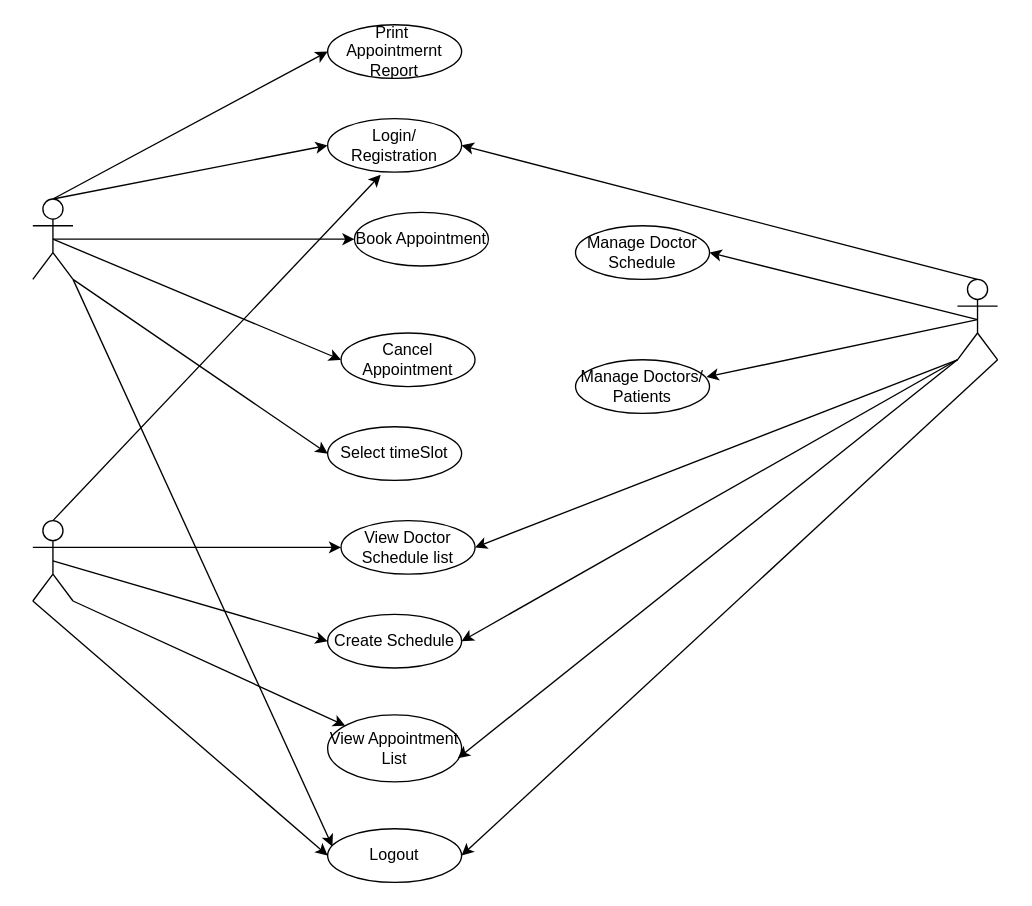
The diagram is 1032 pixels wide and 906 high, and some of its shapes have lost their labels. Here are the shapes that lost their labels. From the top down, the centre of each, then its label:
pixel 52 238: Patient
pixel 977 319: Admin
pixel 52 560: Doctor
